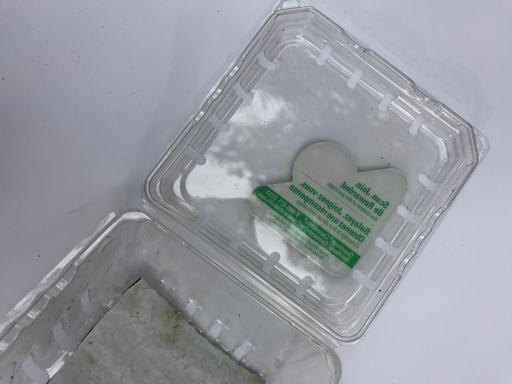bottle: (248, 0, 288, 384)
